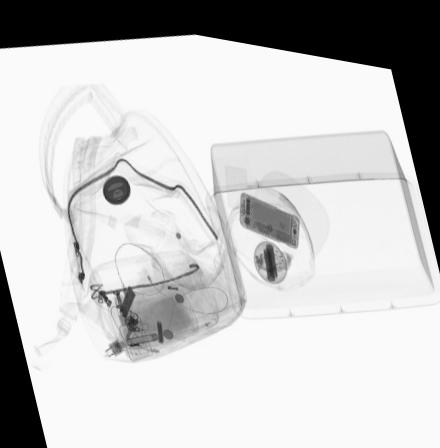Powerbank: (253, 231, 287, 274)
